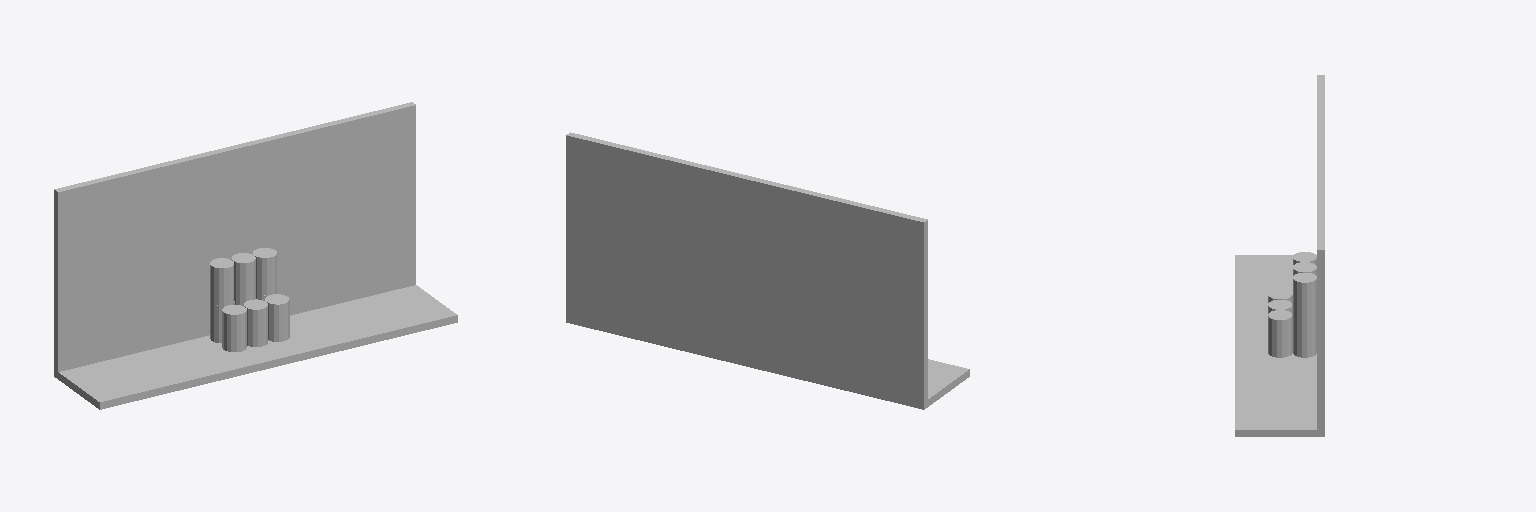
Rendered from cans-shelf-5.obj.
3 renders of one model, left to right at view 1: azimuth 30°, elevation 25°; view 2: azimuth 150°, elevation 25°; view 3: azimuth 270°, elevation 25°, orthographic.
Parts seen in each view (by area): view 1: Object.2, Object.1, Object.8, Object.11, Object.6, Object.10, Object.7, Object.9; view 2: Object.2, Object.1; view 3: Object.1, Object.2, Object.6, Object.9, Object.3.
Boxes of the visible parts, <box> form: Object.2: <box>54,102,415,378</box>; Object.1: <box>58,285,457,409</box>; Object.8: <box>222,305,246,351</box>; Object.11: <box>210,258,233,305</box>; Object.6: <box>265,294,289,341</box>; Object.10: <box>231,253,255,300</box>; Object.7: <box>244,299,267,346</box>; Object.9: <box>253,248,276,295</box>; Object.2: <box>566,132,927,409</box>; Object.1: <box>928,359,969,406</box>; Object.1: <box>1235,255,1316,436</box>; Object.2: <box>1317,75,1324,436</box>; Object.6: <box>1268,310,1292,357</box>; Object.9: <box>1293,272,1316,319</box>; Object.3: <box>1293,317,1316,357</box>.
Bounding box in the file's own units: 1000 × 500 × 220.